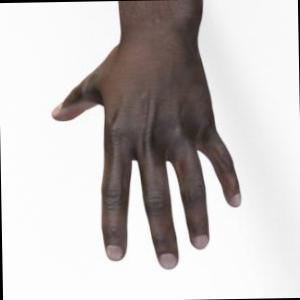paper: (52, 0, 240, 268)
